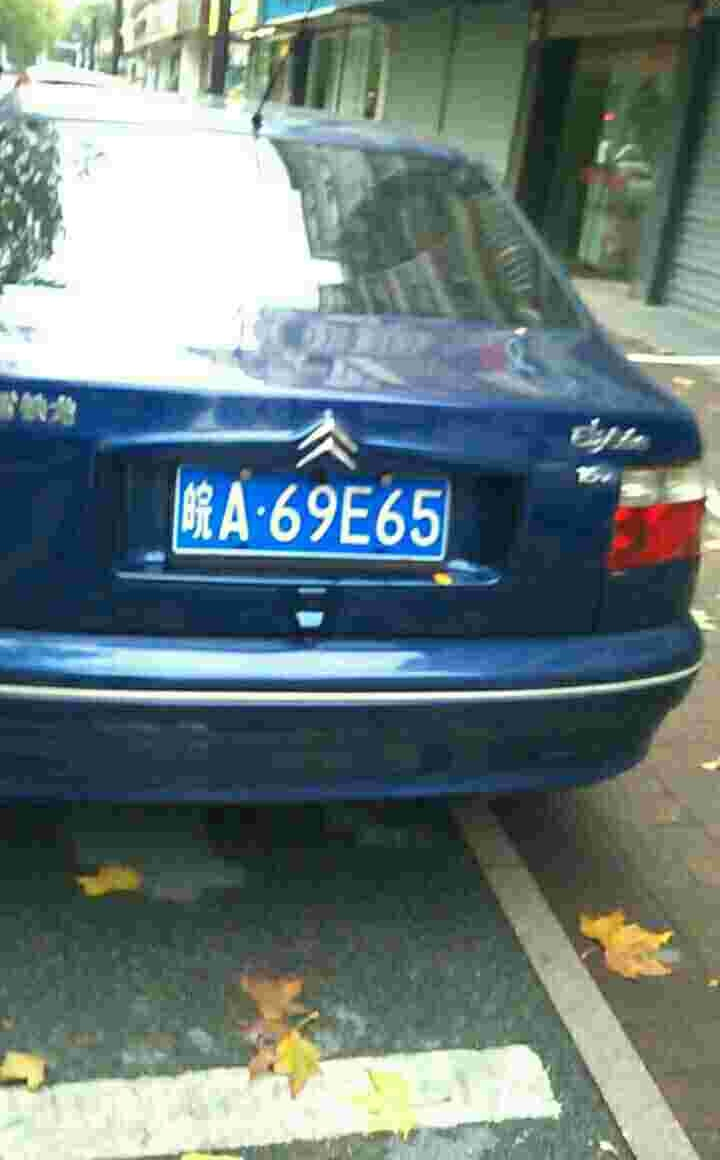license_plate: (181, 469, 464, 561)
